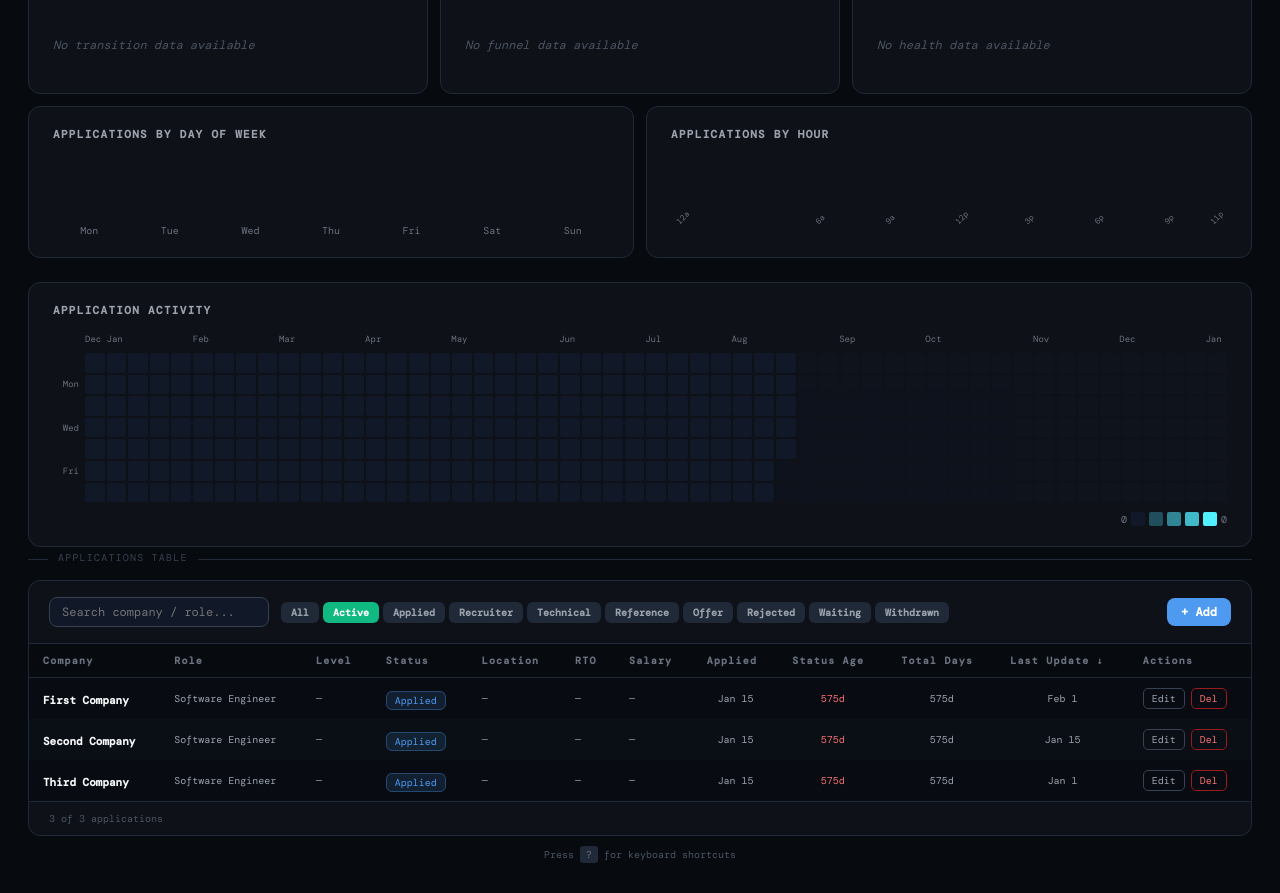
Test: JobTracker (Dashboard) › Sort order after edit › should maintain sort order for applications that were not edited
(page scrolled)
Check: the table is shown, box [29, 644, 1251, 801]
Check: the text "First Company" is shown, box [43, 693, 129, 707]
// Click Edit on Second Company
Click the button "Edit" in the row of "Second Company".
click(1164, 740)  # box [1143, 729, 1185, 750]
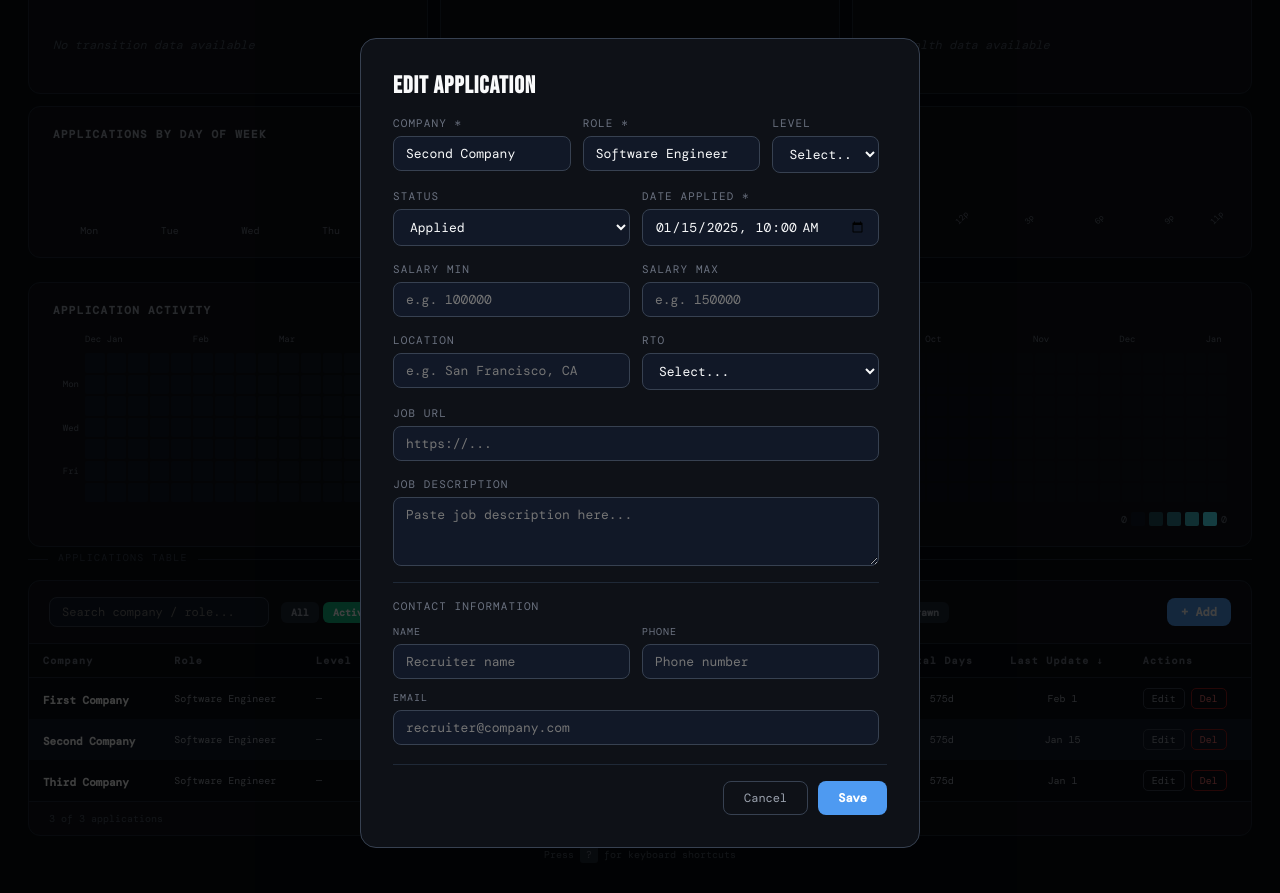
Check: the heading "Edit Application" is shown, box [393, 71, 536, 100]
Click the button "Save".
click(853, 798)  # box [818, 781, 887, 815]
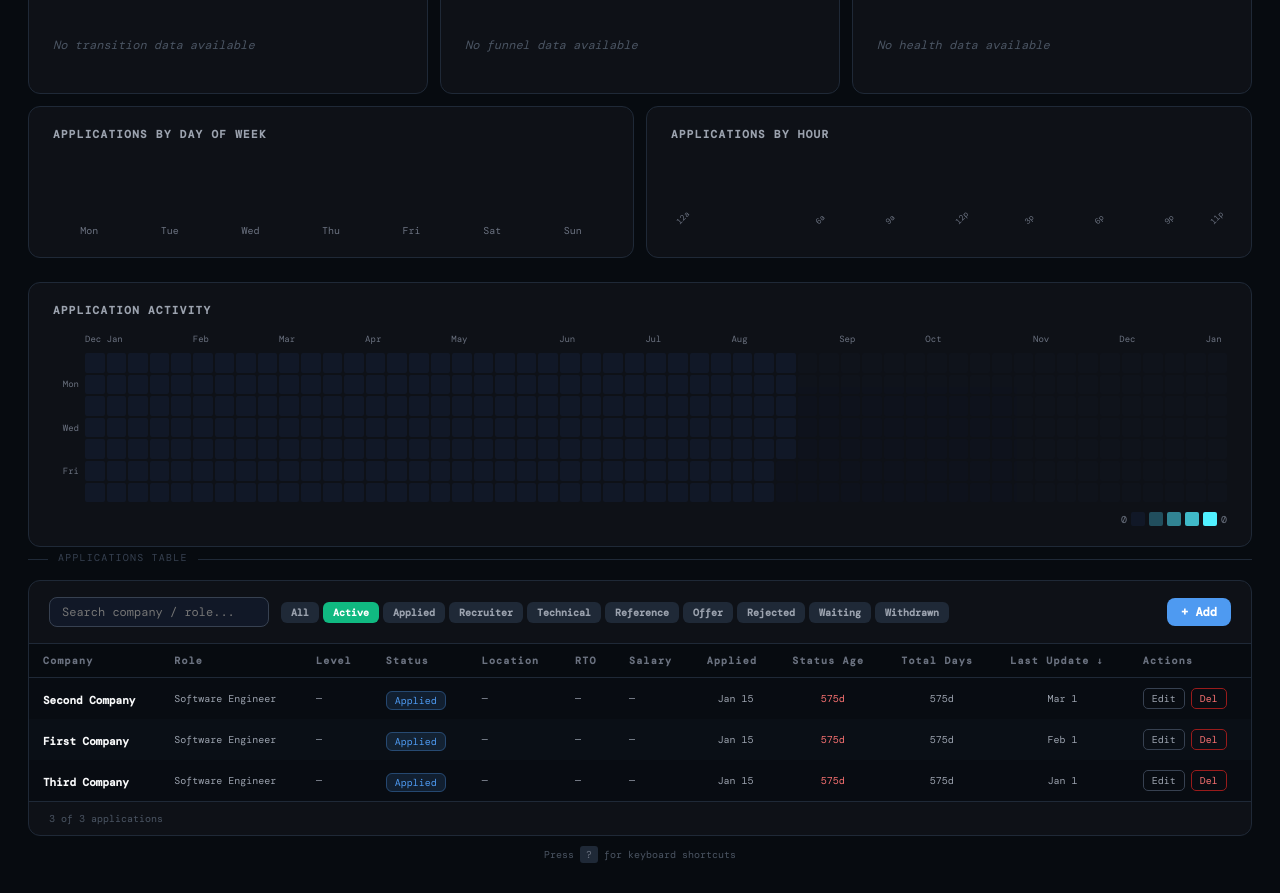
Check: the text "Second Company" is shown, box [43, 693, 135, 707]
Check: the heading "Edit Application" is gone
